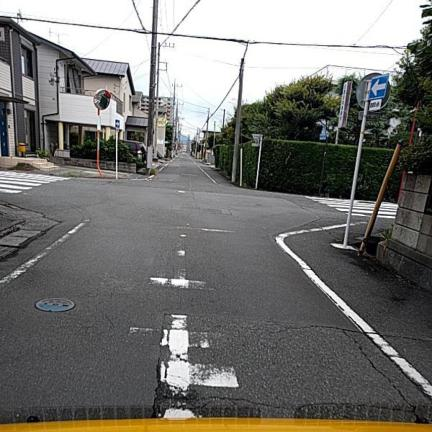Road: (0, 155, 430, 421)
